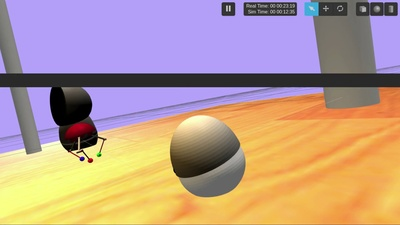mira_robot: (170, 115, 246, 197)
